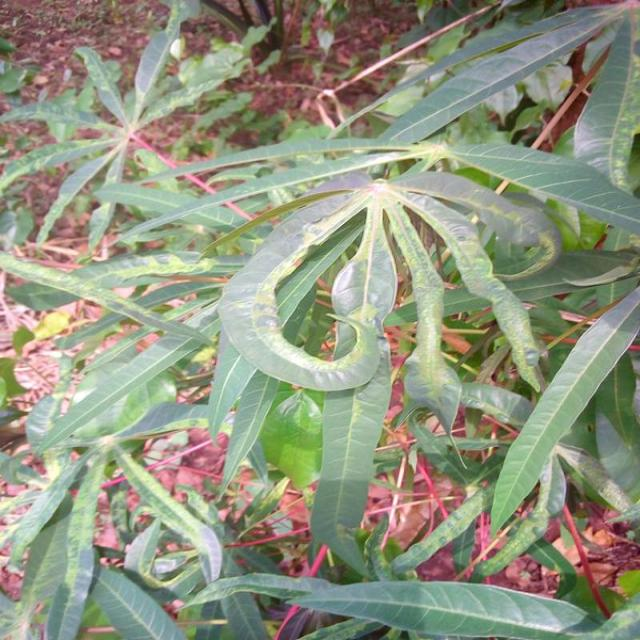cassava leaf: (1, 1, 638, 637), (214, 168, 560, 564), (488, 285, 638, 540)
